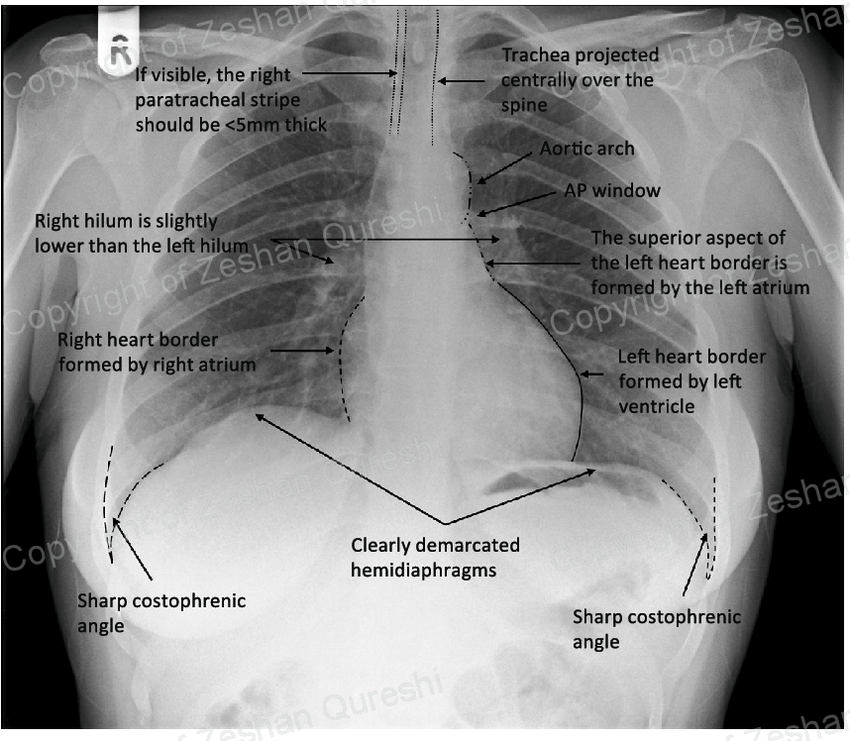telestration: (254, 411, 443, 526), (493, 281, 586, 461), (589, 225, 810, 296), (130, 61, 331, 139), (614, 342, 772, 423), (500, 44, 656, 115), (87, 446, 162, 586), (33, 209, 247, 255), (567, 606, 748, 657), (57, 329, 253, 376), (443, 467, 595, 526), (72, 589, 248, 638), (346, 533, 523, 580), (653, 477, 720, 597), (340, 288, 367, 427), (472, 189, 556, 217), (272, 234, 501, 243), (481, 144, 532, 182), (538, 138, 635, 157), (565, 181, 656, 201), (390, 9, 404, 136), (272, 238, 335, 266), (299, 66, 399, 81), (482, 257, 581, 271), (429, 11, 438, 146), (434, 75, 484, 89), (266, 345, 335, 355), (581, 362, 603, 380)
